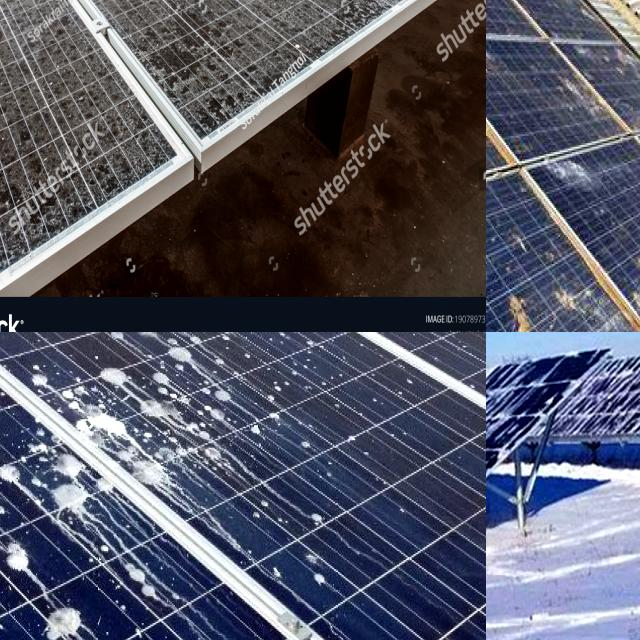bird: (118, 332, 188, 418), (198, 334, 262, 426), (542, 61, 623, 133), (80, 422, 168, 478), (24, 344, 89, 413), (533, 148, 613, 204), (284, 419, 344, 489), (290, 507, 342, 584), (40, 598, 133, 640), (552, 265, 622, 320), (179, 428, 247, 484), (32, 462, 82, 532), (486, 250, 526, 332), (114, 550, 170, 600), (0, 453, 38, 523), (0, 534, 47, 587), (486, 0, 517, 73), (486, 58, 518, 120), (486, 138, 512, 211), (486, 158, 516, 220), (498, 290, 542, 332), (0, 387, 33, 443), (486, 93, 516, 134), (486, 39, 508, 83), (631, 230, 640, 330), (486, 230, 501, 282), (486, 0, 506, 22), (486, 0, 503, 25)
dust: (0, 0, 43, 291), (176, 9, 285, 97), (45, 52, 103, 205), (0, 0, 35, 241), (205, 0, 292, 64), (315, 0, 472, 33), (100, 0, 186, 53), (54, 0, 150, 41), (214, 0, 314, 36), (304, 0, 370, 50), (366, 0, 473, 24), (0, 0, 37, 55)
panel: (486, 371, 544, 427), (486, 435, 542, 491), (595, 367, 640, 433), (486, 384, 538, 419), (486, 394, 526, 431), (486, 446, 529, 477), (486, 443, 528, 470), (486, 400, 511, 433)
